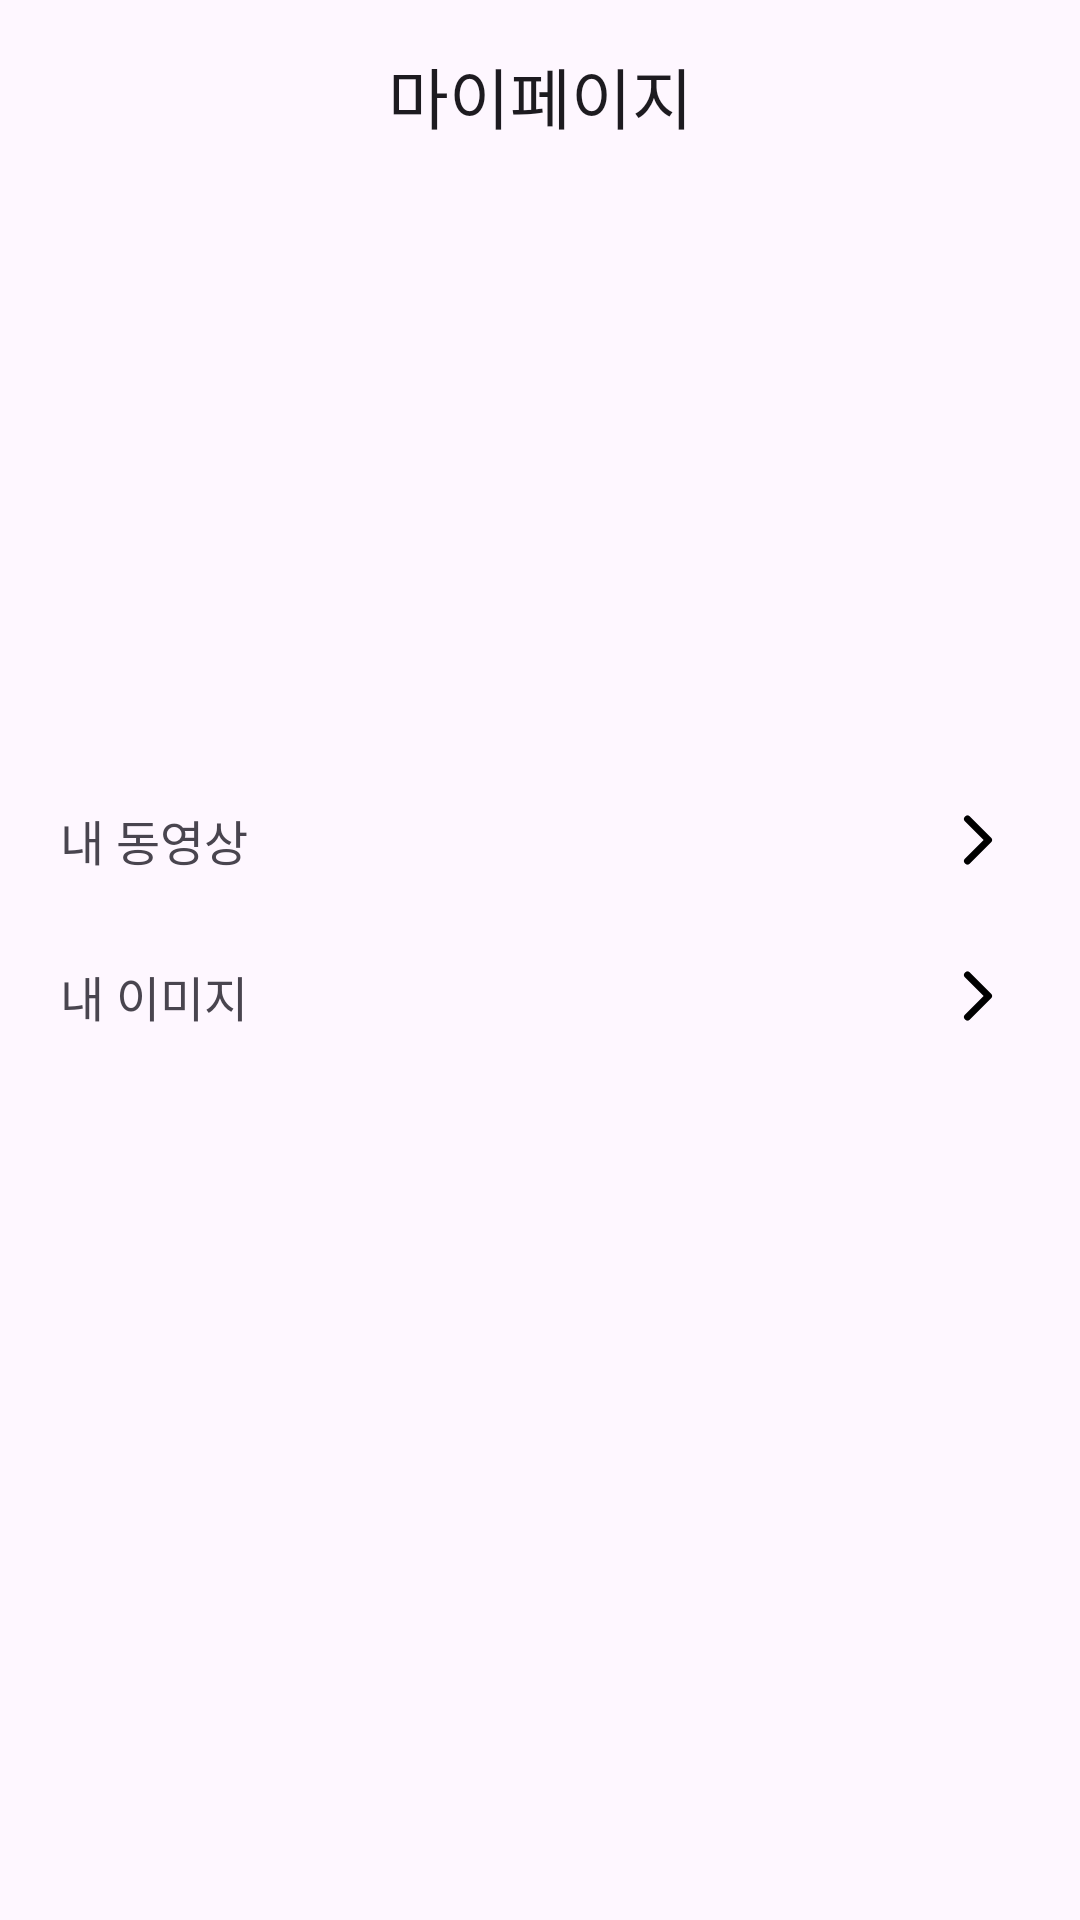

Icon bounding boxes for this 1080 × 1920 phone screenshot, format rect(x1, y1, x2, y2):
go page: rect(964, 815, 992, 865), rect(964, 971, 992, 1021)
